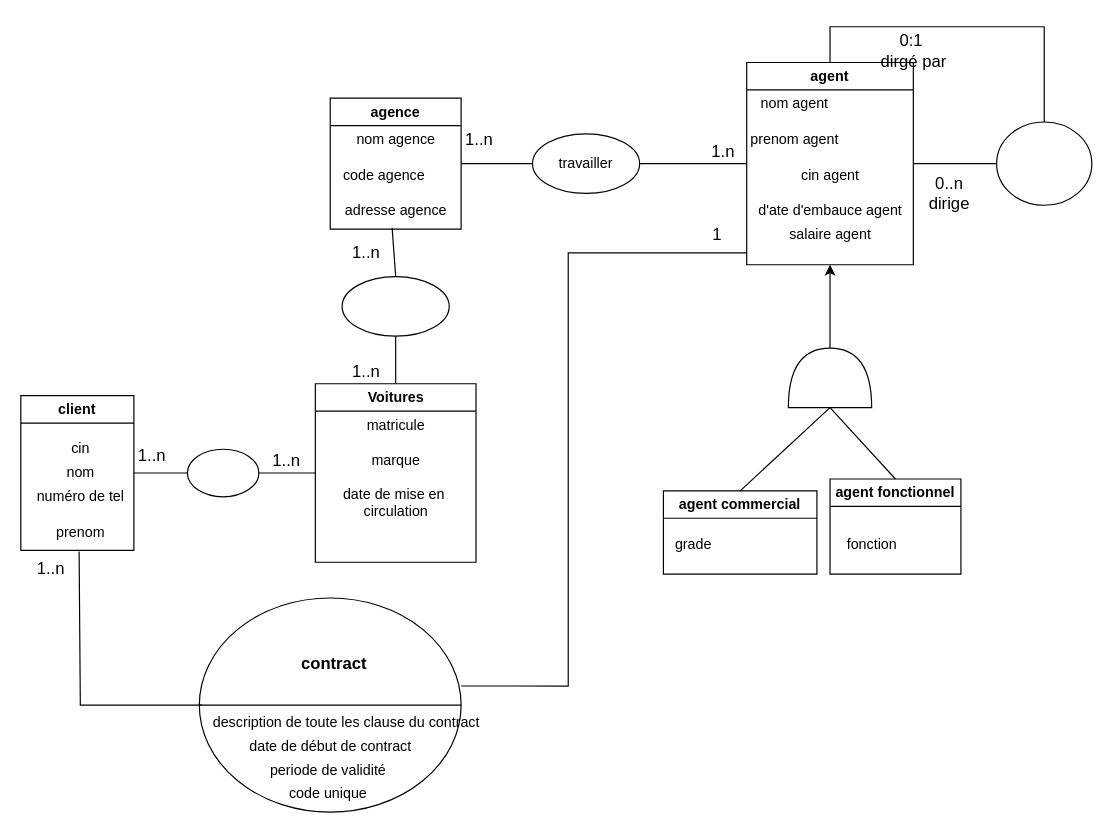
Some shapes in this 1113 by 833 pixel diagram are drawn without their labels. Here are the shapes that lost their labels. From the top down, the centre of each, then its label:
the point at 1043,163: diriger
the point at 395,305: contient
the point at 222,472: Louer
